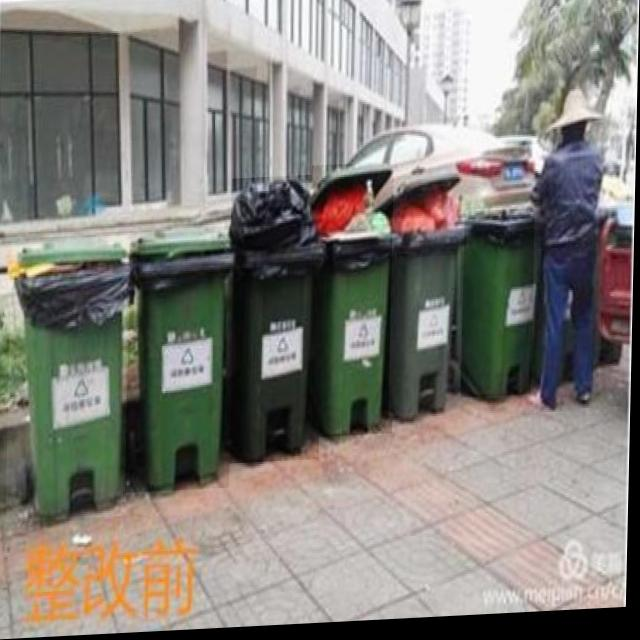garbage_bin: (128, 228, 236, 495), (463, 214, 536, 403)
overflow: (8, 237, 130, 522), (228, 178, 326, 466), (309, 166, 399, 441), (390, 174, 468, 425)
